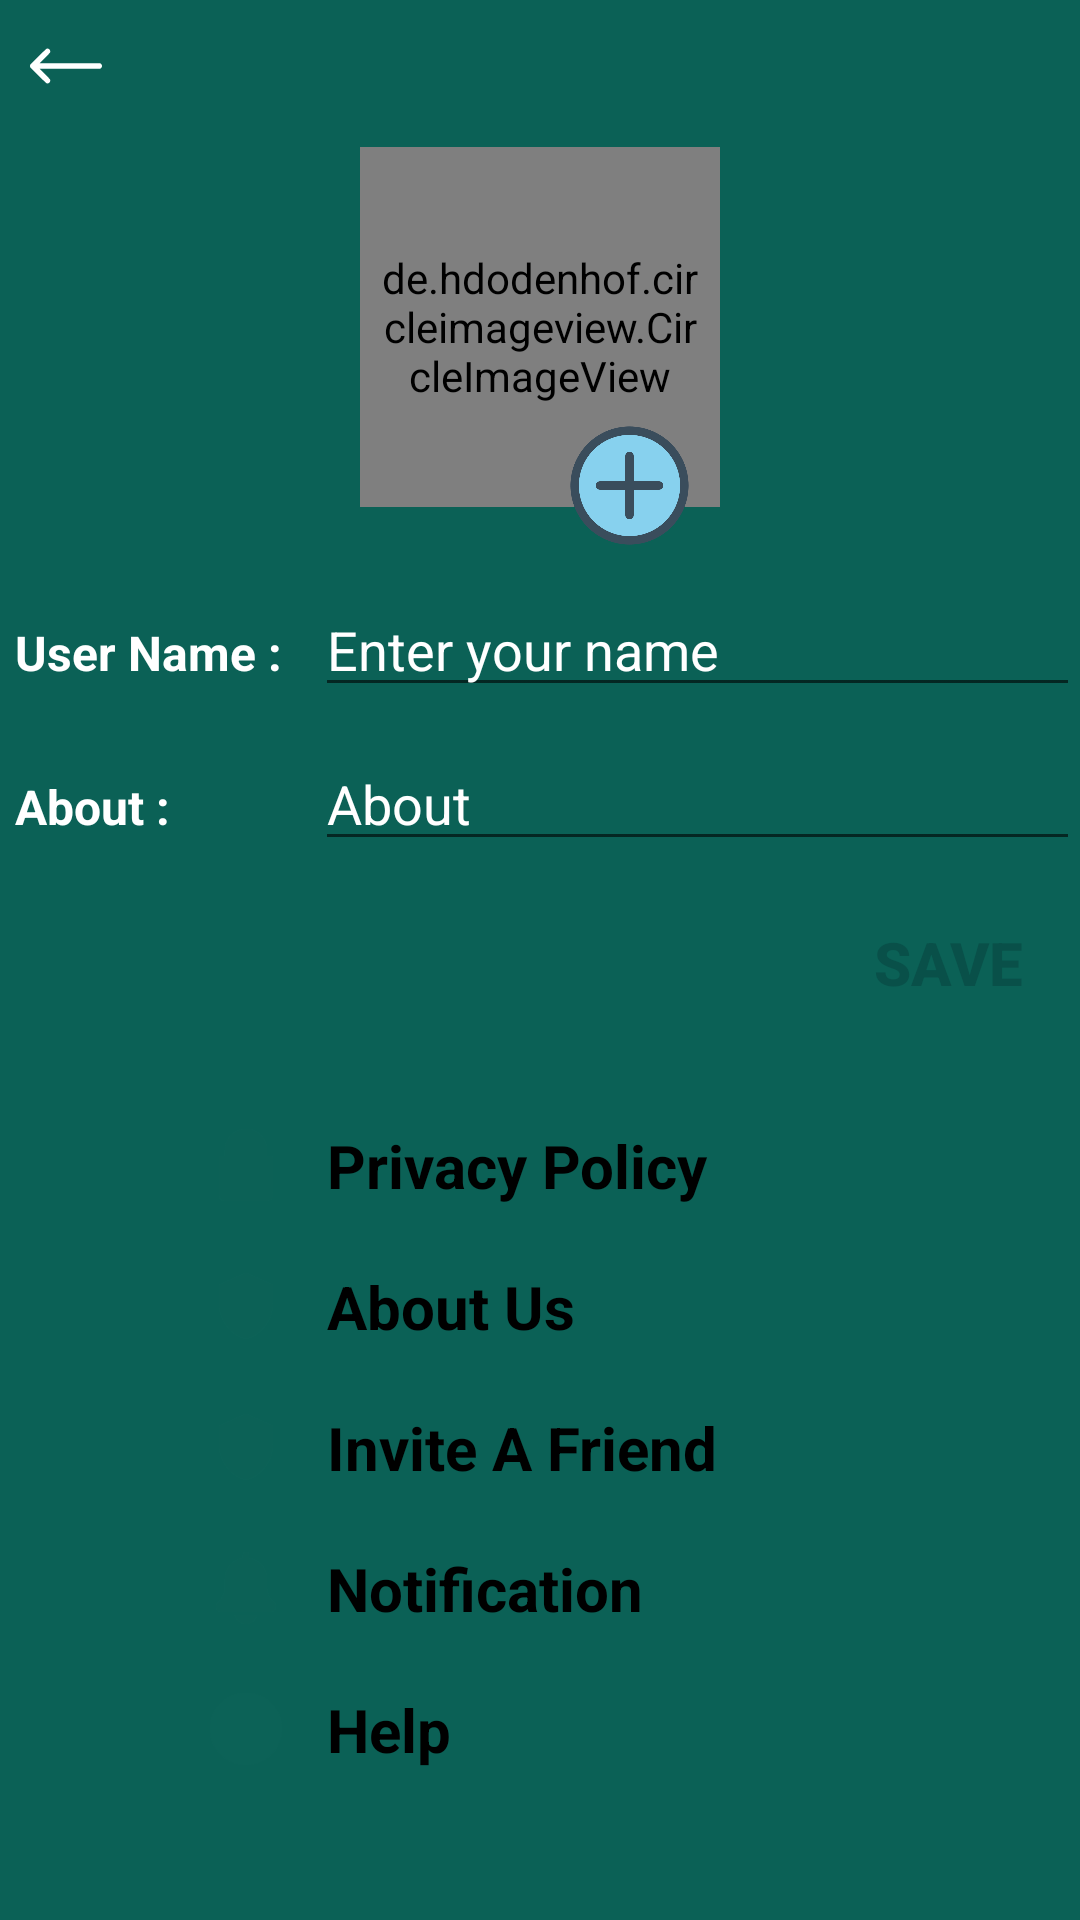

Where to tap for icons on this 1080 x 1920 app screen, as point (x, y):
left arrow: point (66, 66)
plluss: point (629, 485)
